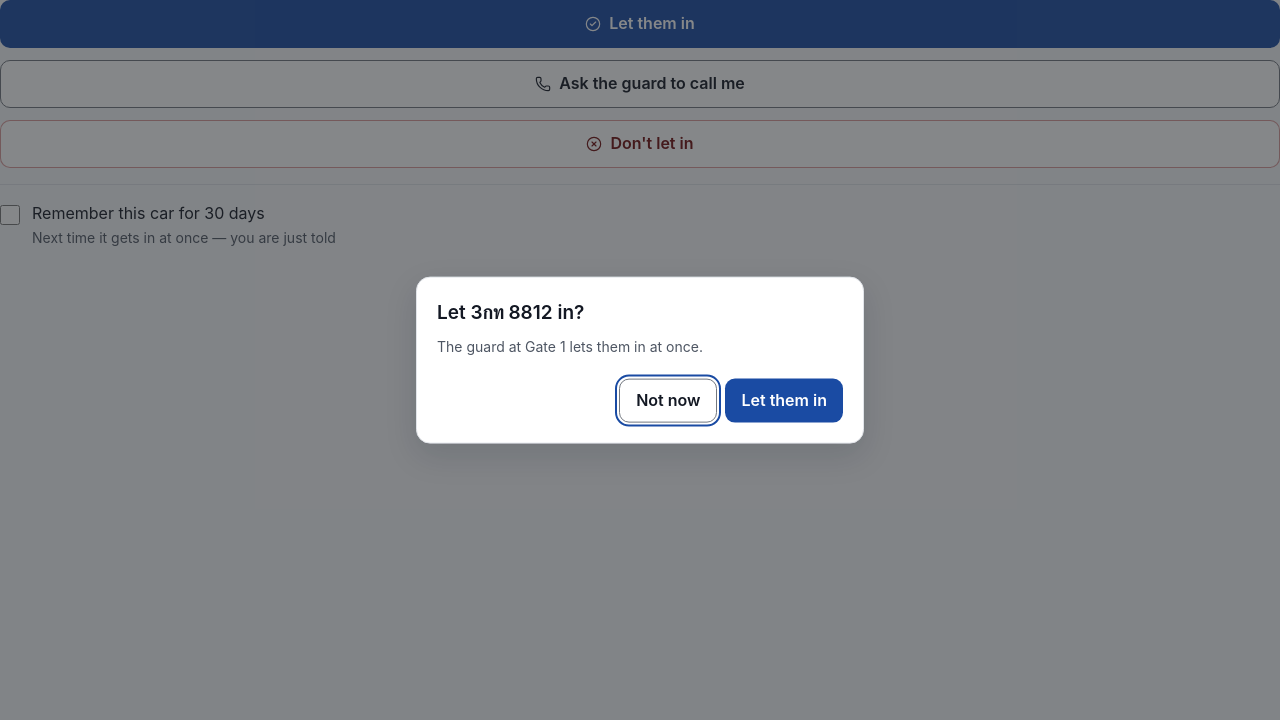
VisitAnswer › a LINE button never acts: it opens the confirmation naming the plate, and only the confirm answers
Check: the heading "Let 3กท 8812 in?" is shown, box [437, 301, 584, 324]
Click the button "Let them in" at {"x": 784, "y": 400}, box [726, 378, 843, 422]
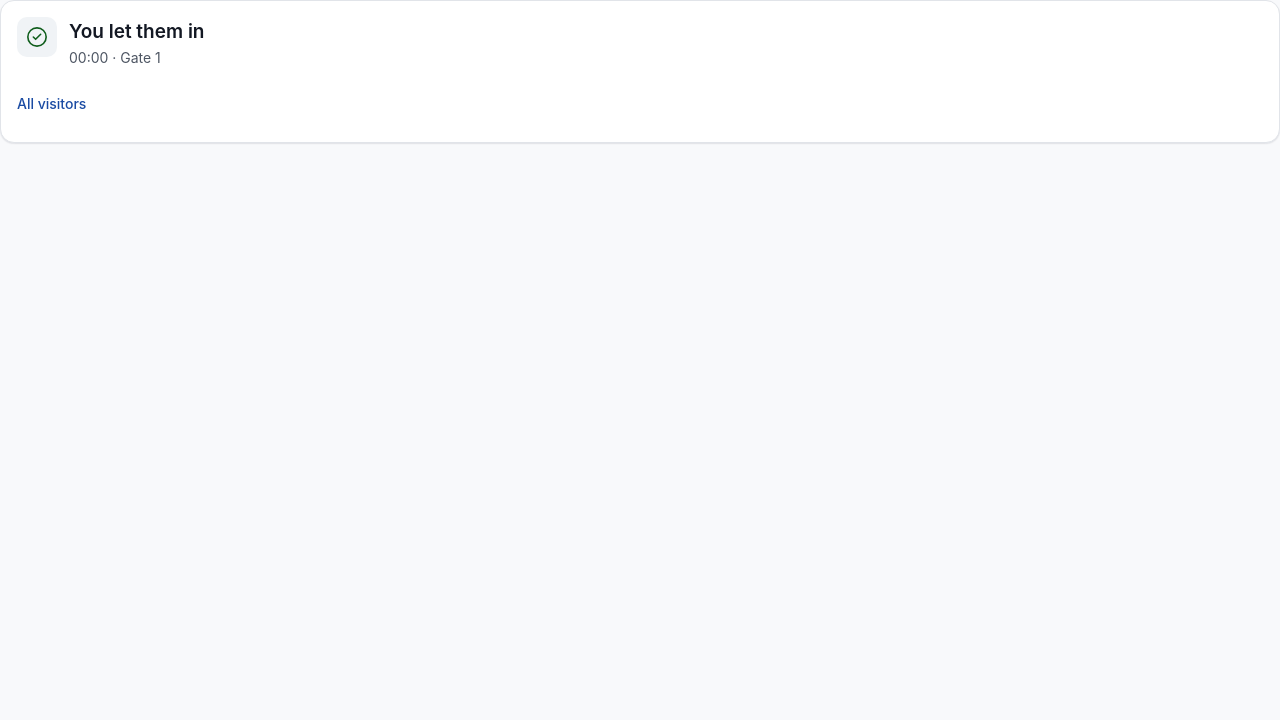
Check: the heading "You let them in" is shown, box [69, 17, 204, 47]
